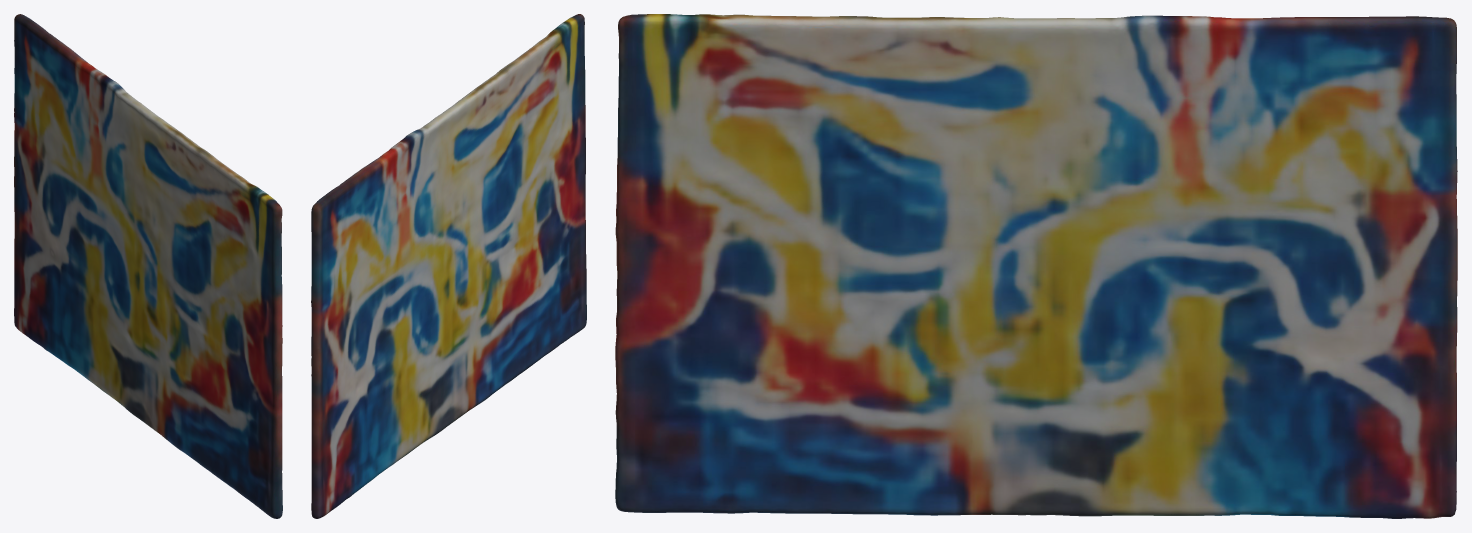
Rendered from 620bc2eb7005_wall_abstract_paint.fbx.
3 views of the same model, side by side, from view 1: azimuth 30°, elevation 25°; view 2: azimuth 150°, elevation 25°; view 3: azimuth 270°, elevation 25° (orthographic). The views are drawn at different scales.
Parts seen in each view (by area): view 1: high_poly; view 2: high_poly; view 3: high_poly.
Part boxes in pixels (x1,y1,x2,y2): high_poly: (14, 14, 282, 518); high_poly: (311, 14, 586, 518); high_poly: (615, 14, 1457, 518).
Size of the model in its own units: 2.94 by 65.65 by 100.
